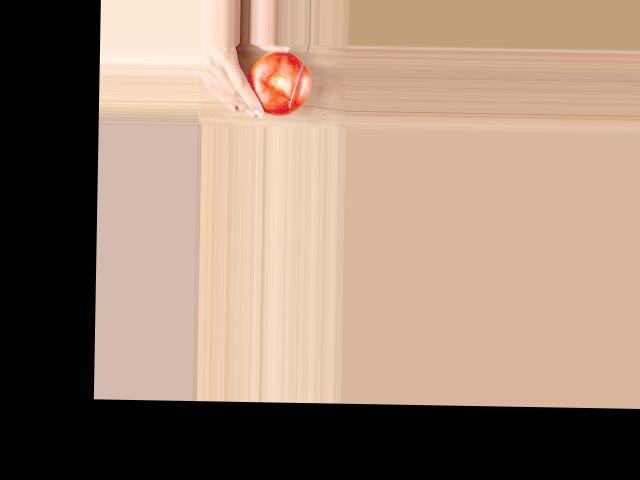tomato: (246, 51, 311, 115)
